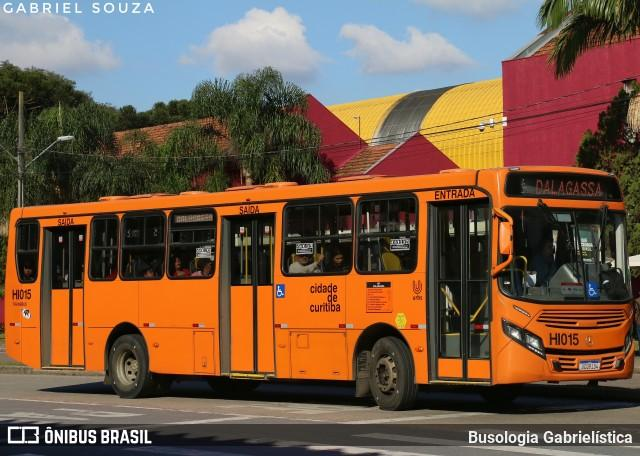DALAGASSA: (530, 172, 607, 200)
